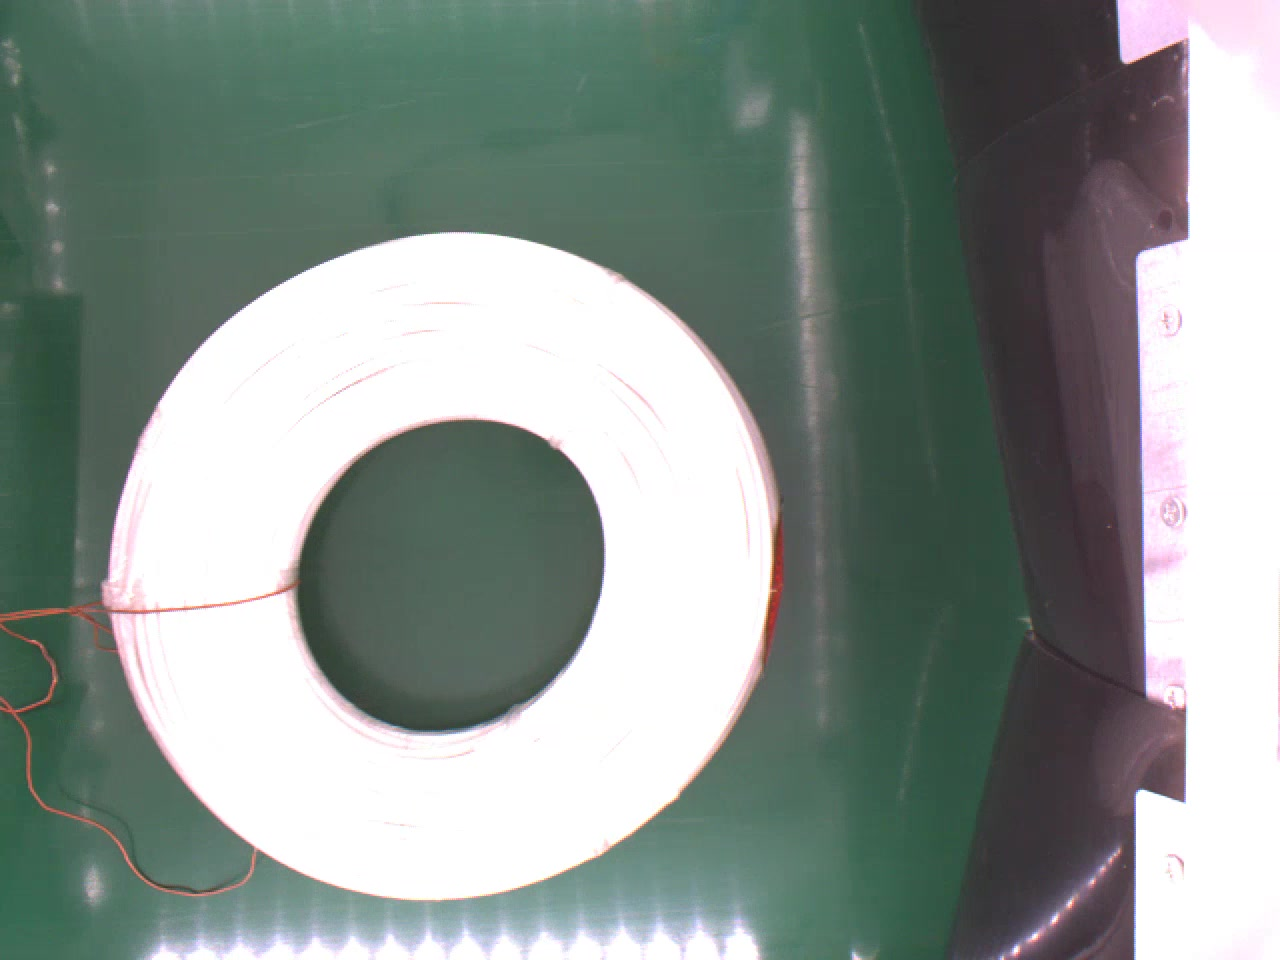white: (105, 222, 791, 899)
